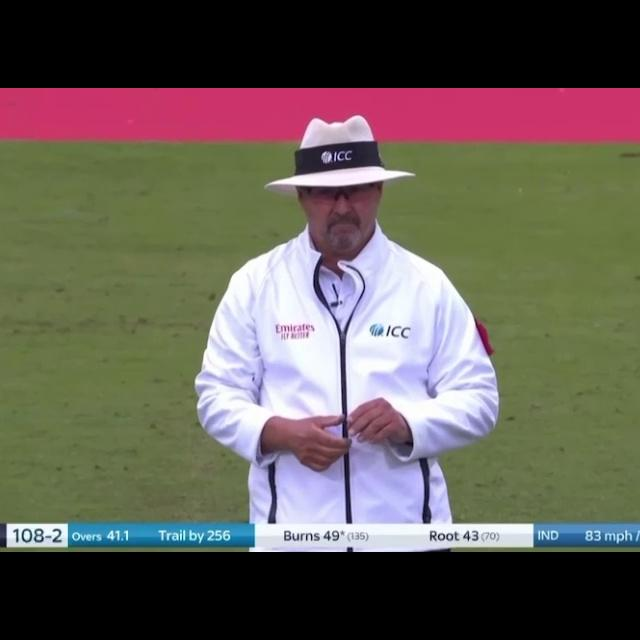umpire: (178, 106, 510, 546)
